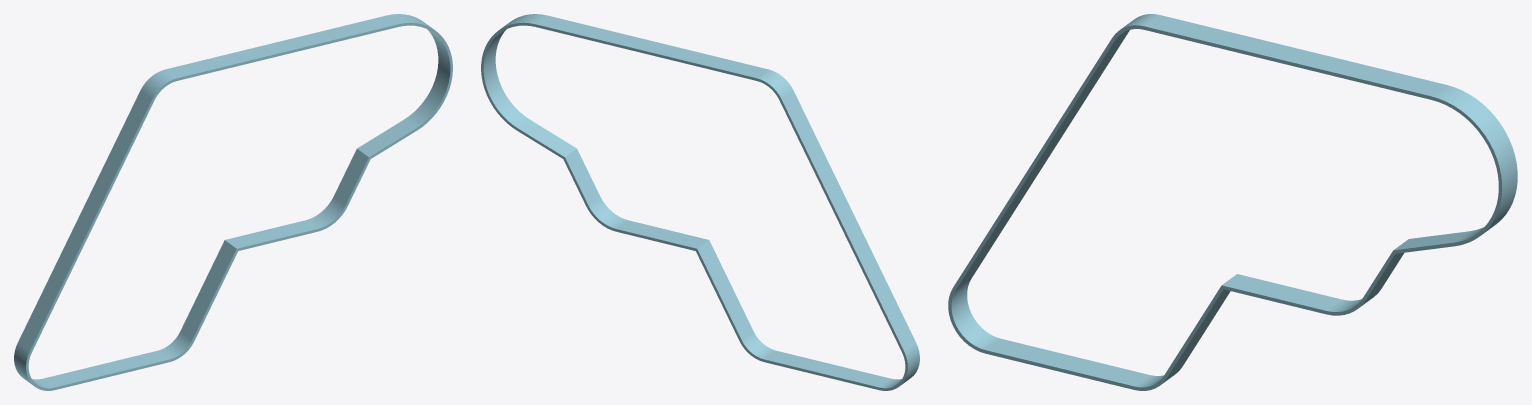
Rendered from barrier_1.obj.
The picture shows the model from 3 angles, left to right: view 1: azimuth 30°, elevation 25°; view 2: azimuth 150°, elevation 25°; view 3: azimuth 330°, elevation 25°; orthographic projection. The views are drawn at different scales.
Parts seen in each view (by area): view 1: barrier_1; view 2: barrier_1; view 3: barrier_1.
Boxes of the visible parts, x1=… form: barrier_1: x1=14, y1=14, x2=452, y2=390; barrier_1: x1=481, y1=14, x2=919, y2=390; barrier_1: x1=948, y1=14, x2=1517, y2=390.
Size of the model in its own units: 0.3281 by 0.2072 by 0.016.
